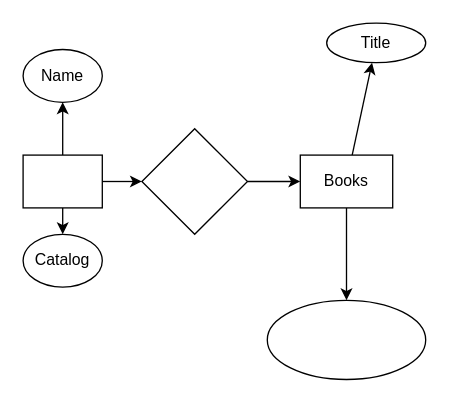
Some shapes in this 449 by 403 pixel diagram are drawn without their labels. The shapes that lost their labels are listed below. From the top down, each one's centre as x and y in pixels, then its label:
At (62,181): "Author".
At (194,180): "Writes".
